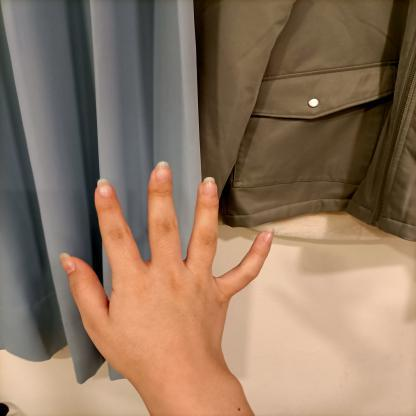bare_hand: (56, 155, 280, 404)
